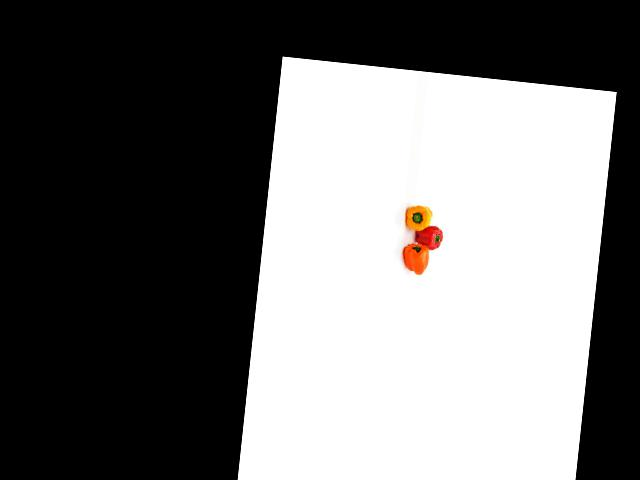bell_pepper: (403, 202, 434, 235)
